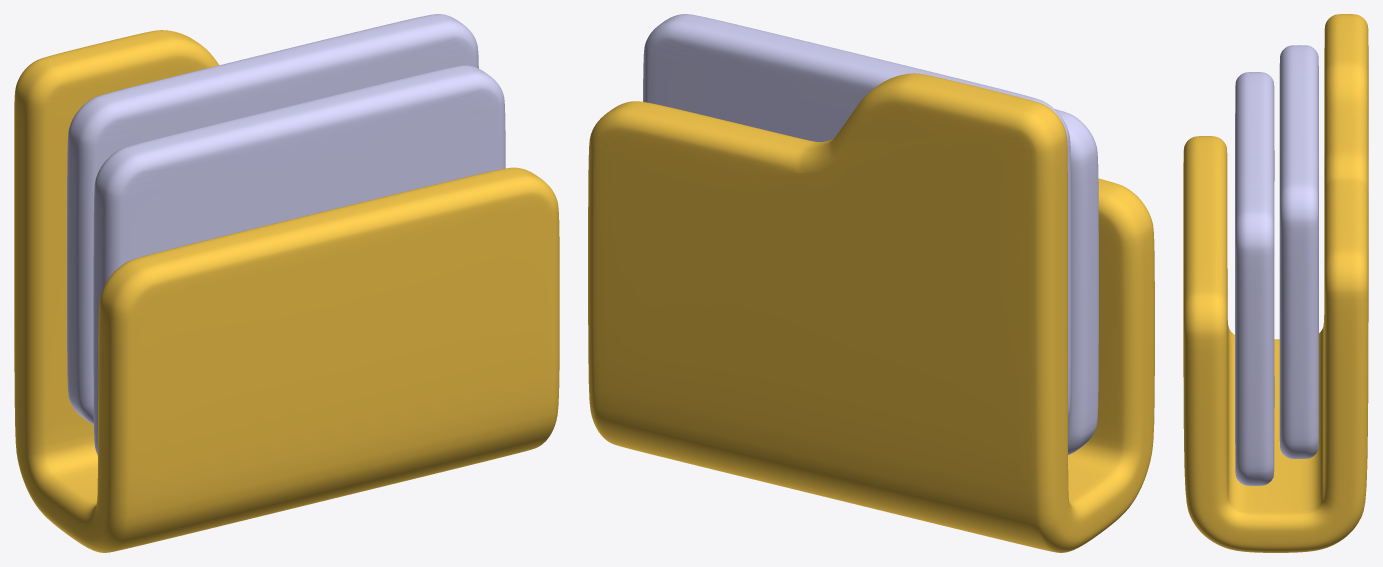
File: DocumentFolder.glb
3 renders of one model, left to right at view 1: azimuth 30°, elevation 25°; view 2: azimuth 150°, elevation 25°; view 3: azimuth 270°, elevation 25°, orthographic. The views are drawn at different scales.
Visible parts, largest first — view 1: Plane, Plane.001, Plane.002; view 2: Plane, Plane.002, Plane.001; view 3: Plane, Plane.001, Plane.002.
Part boxes in pixels (x1=…): Plane: x1=14, y1=30, x2=559, y2=552; Plane.001: x1=93, y1=65, x2=505, y2=455; Plane.002: x1=67, y1=14, x2=478, y2=424; Plane: x1=588, y1=73, x2=1154, y2=552; Plane.002: x1=643, y1=14, x2=1071, y2=415; Plane.001: x1=1055, y1=109, x2=1098, y2=454; Plane: x1=1183, y1=14, x2=1368, y2=552; Plane.001: x1=1235, y1=72, x2=1274, y2=485; Plane.002: x1=1279, y1=45, x2=1318, y2=458.
Bounding box in the file's own units: 3.94 × 3.7 × 1.67.
